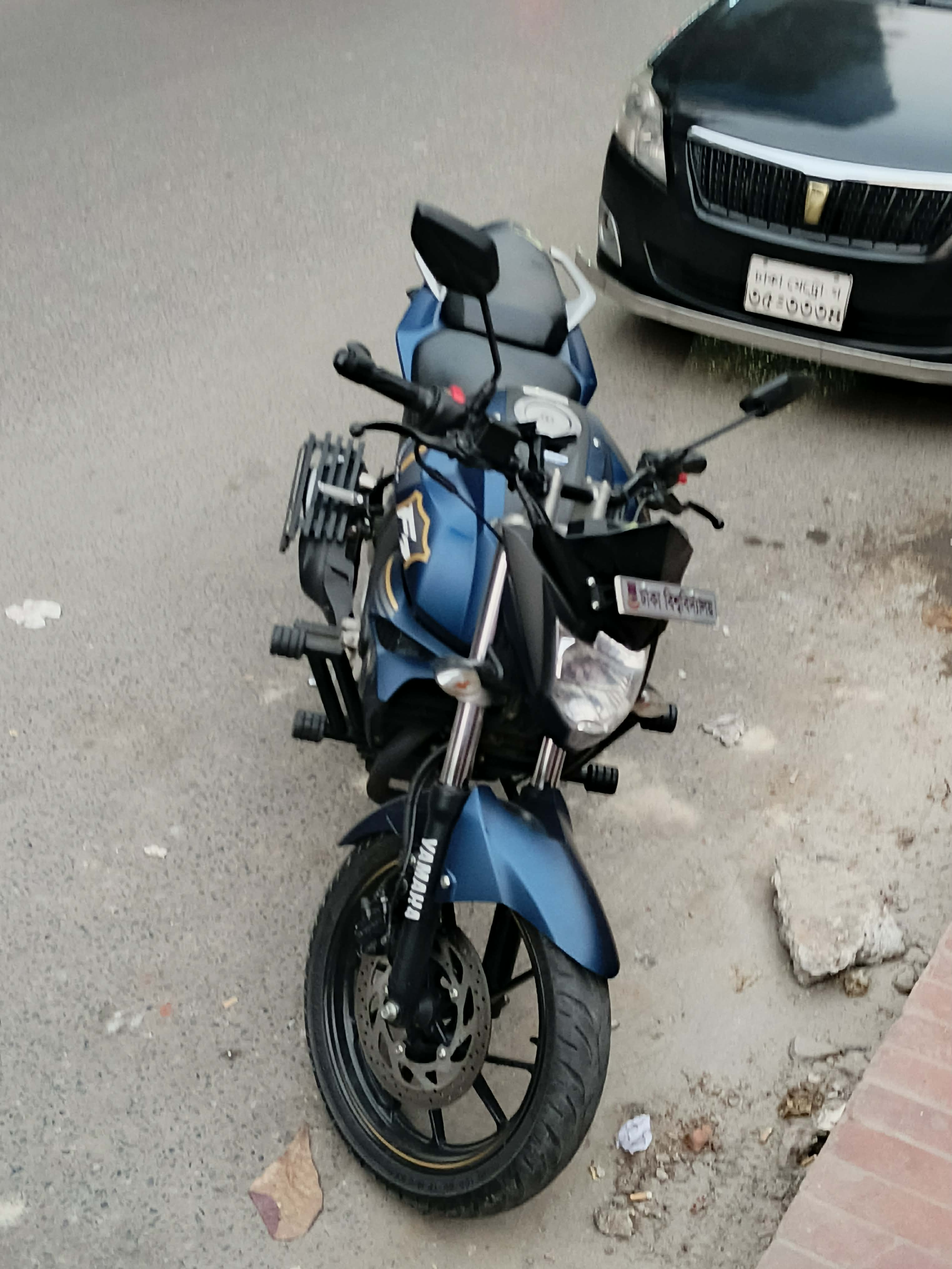Bikes: (262, 185, 725, 1269)
private car: (622, 4, 952, 440)
